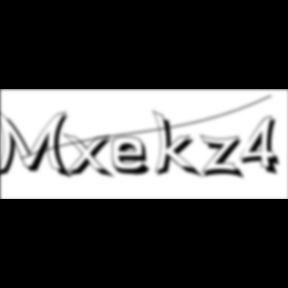4: (240, 115, 286, 179)
M: (0, 108, 76, 181)
e: (112, 135, 158, 178)
k: (152, 108, 206, 181)
x: (64, 132, 118, 181)
z: (200, 134, 248, 182)
